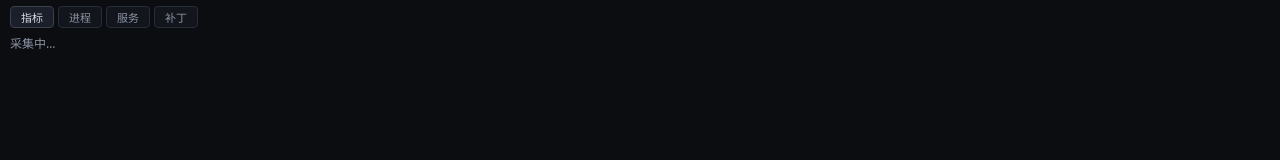
Scenario: MonitorPanel 进程页签 › 切到进程页即取列表并渲染各列
This screenshot has width=1280, height=160.
Click the button with test id "mon-tab-procs" at x=80, y=17, box [58,6,102,28]
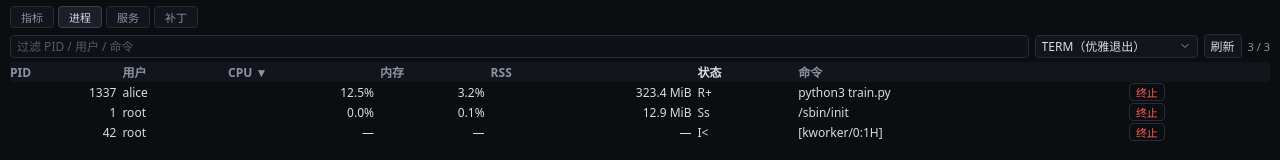
Expected: the table with test id "proc-table" is shown, [10,62,1270,142]
Expected: the element with test id "monitor-panel" shows "python3 train.py", [798,84,891,100]
Expected: the element with test id "monitor-panel" shows "12.5%", [340,84,374,100]
